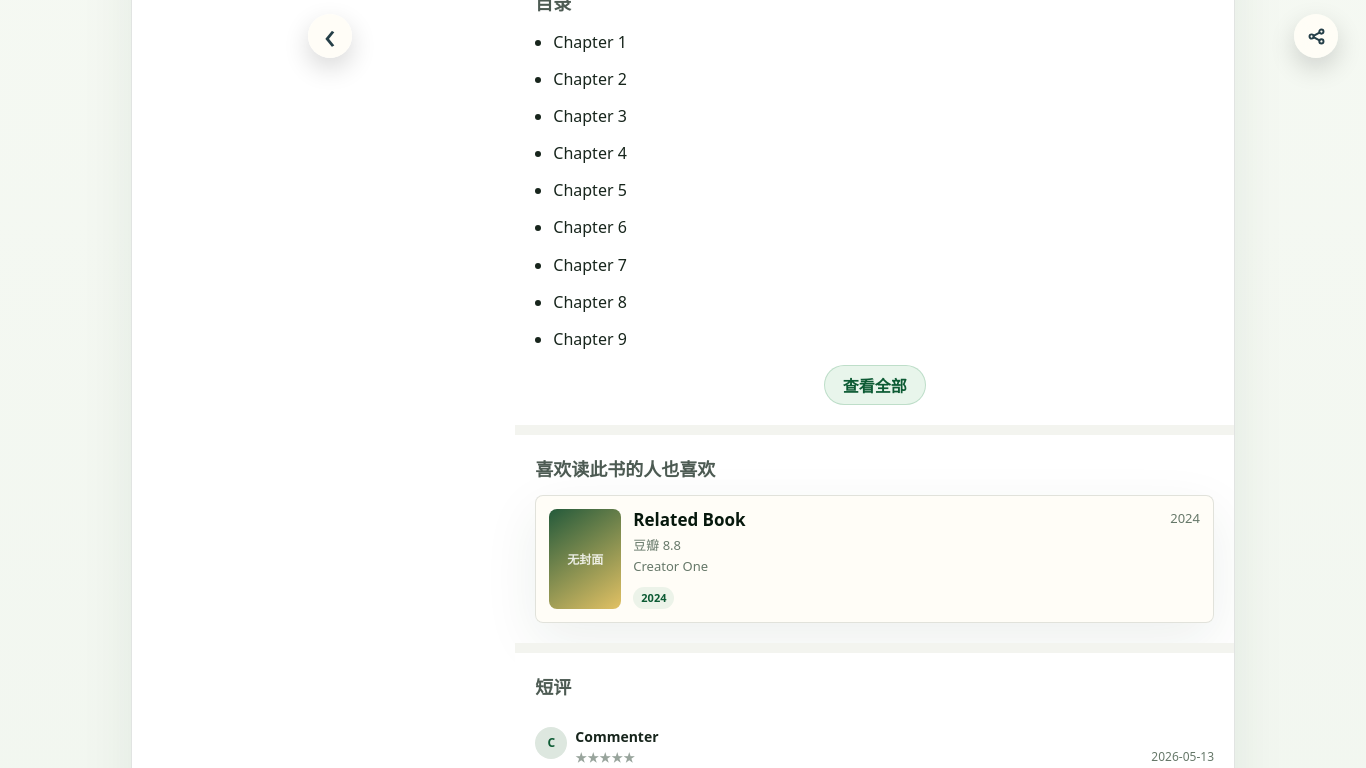
Test case: SubjectDetailPage › renders book table of contents and related books
The image size is (1366, 768).
(page scrolled)
Check: the list item "Chapter 1" is shown, box [553,30,627,52]
Check: the element with class "detail-list-wrap--collapsed" is shown, box [553,30,627,350]
Click the button "查看全部": point(875, 384) [824,364,926,404]
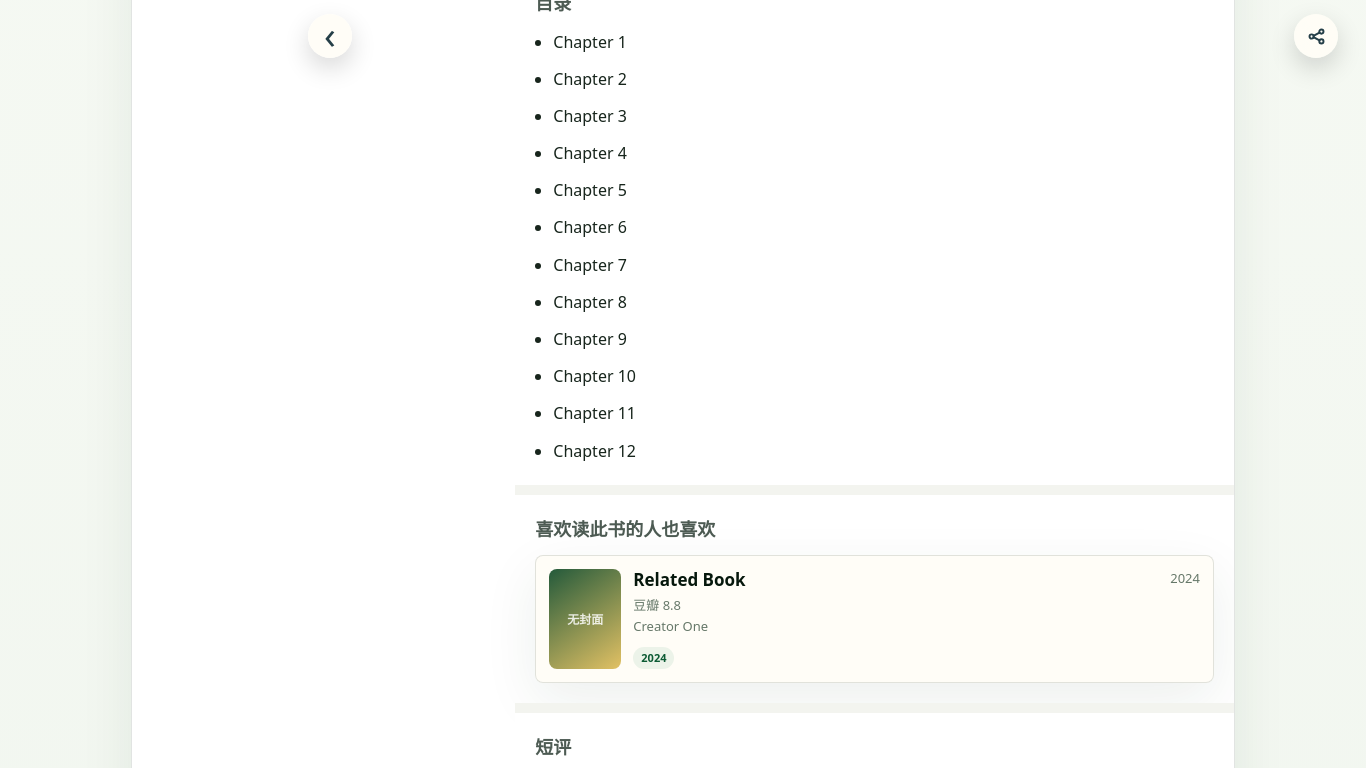
Check: the element with class "detail-related-grid" is shown, box [535,555,1214,683]
Check: the list item "Chapter 12" is shown, box [553,440,636,462]
